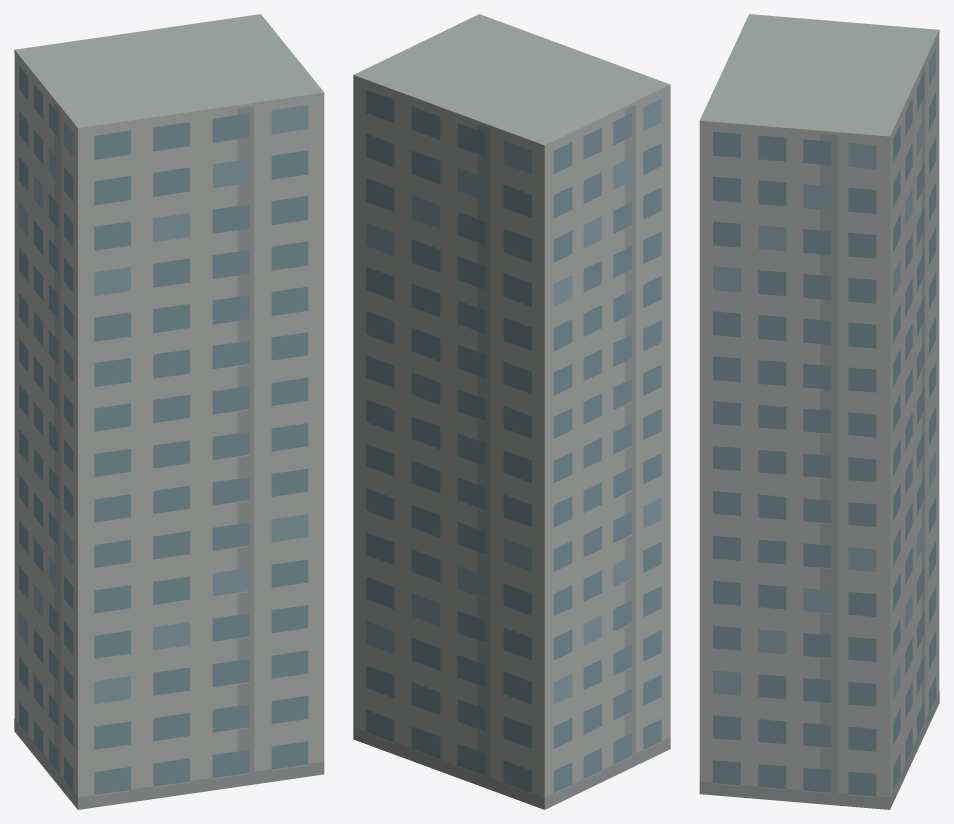
The model's file is residential-bedb16c9-4e7c-4eaf-84ab-0a42ffb51542.glb.
The picture shows the model from 3 angles, left to right: view 1: azimuth 30°, elevation 25°; view 2: azimuth 150°, elevation 25°; view 3: azimuth 270°, elevation 25°; orthographic projection. The views are drawn at different scales.
Parts seen in each view (by area): view 1: residential-bedb16c9-4e7c-4eaf-84ab-0a42ffb51542.tmp; view 2: residential-bedb16c9-4e7c-4eaf-84ab-0a42ffb51542.tmp; view 3: residential-bedb16c9-4e7c-4eaf-84ab-0a42ffb51542.tmp.
Part boxes in pixels (x1,y1,x2,y2): residential-bedb16c9-4e7c-4eaf-84ab-0a42ffb51542.tmp: (14,14,324,809); residential-bedb16c9-4e7c-4eaf-84ab-0a42ffb51542.tmp: (353,14,670,809); residential-bedb16c9-4e7c-4eaf-84ab-0a42ffb51542.tmp: (699,14,939,809).
Bounding box in the file's own units: 19.9 × 51 × 16.48.
